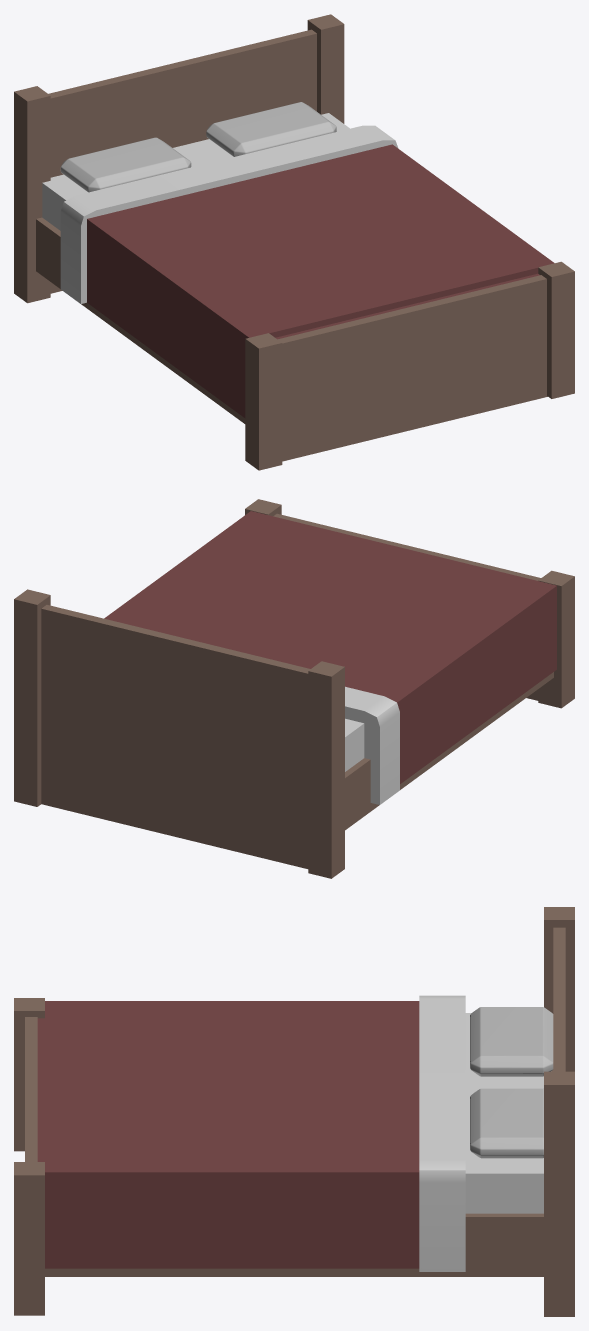
Rendered from bed.fbx.
The picture shows the model from 3 angles, top to bottom: view 1: azimuth 30°, elevation 25°; view 2: azimuth 150°, elevation 25°; view 3: azimuth 270°, elevation 25°; orthographic projection. The views are drawn at different scales.
Visible parts, largest first — view 1: pCube90, pCube97, pCube95, pCube94, pCube98, pCube100, pCube99, pCube92, pCube93, pCube89; view 2: pCube90, pCube95, pCube94, pCube93, pCube98, pCube89, pCube97; view 3: pCube90, pCube89, pCube93, pCube100, pCube99, pCube92, pCube94, pCube98, pCube97, pCube95.
Part boxes in pixels (left/top/right/bottom): pCube90: left=42, top=113, right=554, bottom=418; pCube97: left=278, top=275, right=547, bottom=461; pCube95: left=48, top=29, right=316, bottom=293; pCube94: left=14, top=86, right=50, bottom=303; pCube98: left=245, top=333, right=282, bottom=470; pCube100: left=60, top=137, right=191, bottom=192; pCube99: left=206, top=102, right=336, bottom=156; pCube92: left=538, top=261, right=574, bottom=398; pCube93: left=307, top=14, right=344, bottom=123; pCube89: left=36, top=217, right=245, bottom=423; pCube90: left=104, top=511, right=556, bottom=804; pCube95: left=41, top=605, right=310, bottom=868; pCube94: left=308, top=661, right=344, bottom=878; pCube93: left=14, top=589, right=50, bottom=806; pCube98: left=538, top=570, right=574, bottom=708; pCube89: left=345, top=672, right=553, bottom=830; pCube97: left=273, top=513, right=540, bottom=700; pCube90: left=37, top=995, right=543, bottom=1271; pCube89: left=45, top=1070, right=553, bottom=1276; pCube93: left=544, top=1071, right=574, bottom=1316; pCube100: left=470, top=1007, right=553, bottom=1076; pCube99: left=470, top=1088, right=543, bottom=1158; pCube92: left=14, top=1162, right=44, bottom=1315; pCube94: left=544, top=907, right=574, bottom=1071; pCube98: left=14, top=998, right=44, bottom=1151; pCube97: left=25, top=1017, right=37, bottom=1161; pCube95: left=553, top=927, right=565, bottom=1071.
Size of the model in its own units: 4994 by 3032 by 6640.
